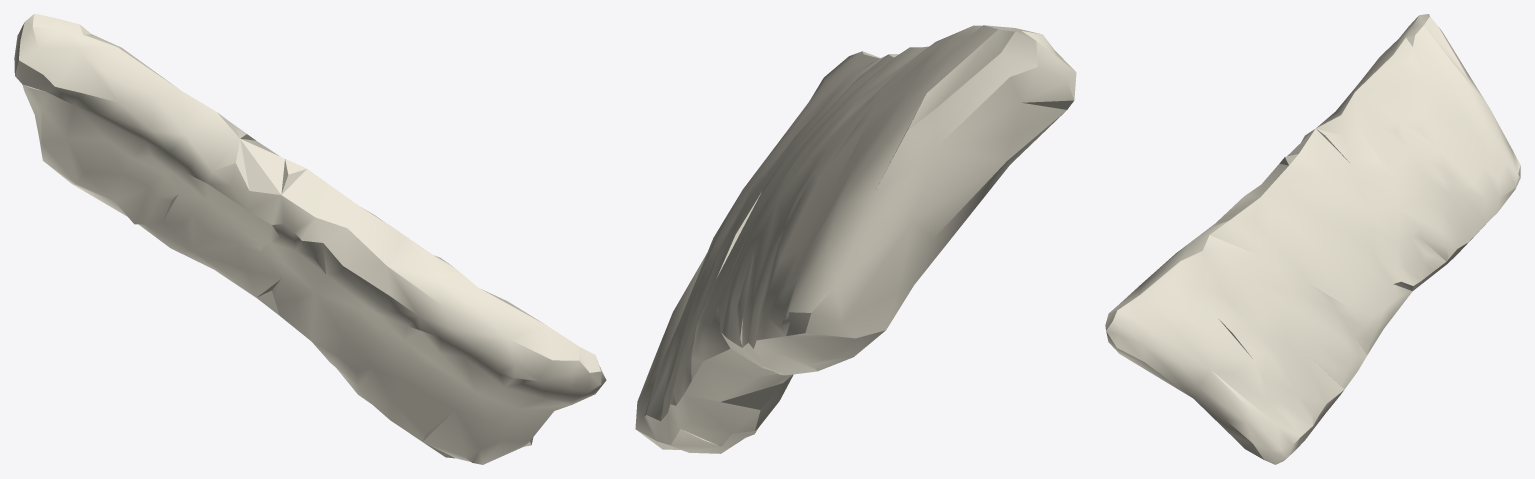
File: fma44230_mm1377.glb
3 views of the same model, side by side, from view 1: azimuth 30°, elevation 25°; view 2: azimuth 150°, elevation 25°; view 3: azimuth 270°, elevation 25° (orthographic). The views are drawn at different scales.
Parts seen in each view (by area): view 1: FMA44230_MM1377; view 2: FMA44230_MM1377; view 3: FMA44230_MM1377.
Part boxes in pixels (bbox=[...]): FMA44230_MM1377: bbox=[14, 14, 606, 464]; FMA44230_MM1377: bbox=[635, 25, 1076, 453]; FMA44230_MM1377: bbox=[1105, 14, 1520, 464].
Bounding box in the file's own units: 0.0138 × 0.0146 × 0.017.
